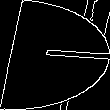L_W: (7, 36, 103, 74)
